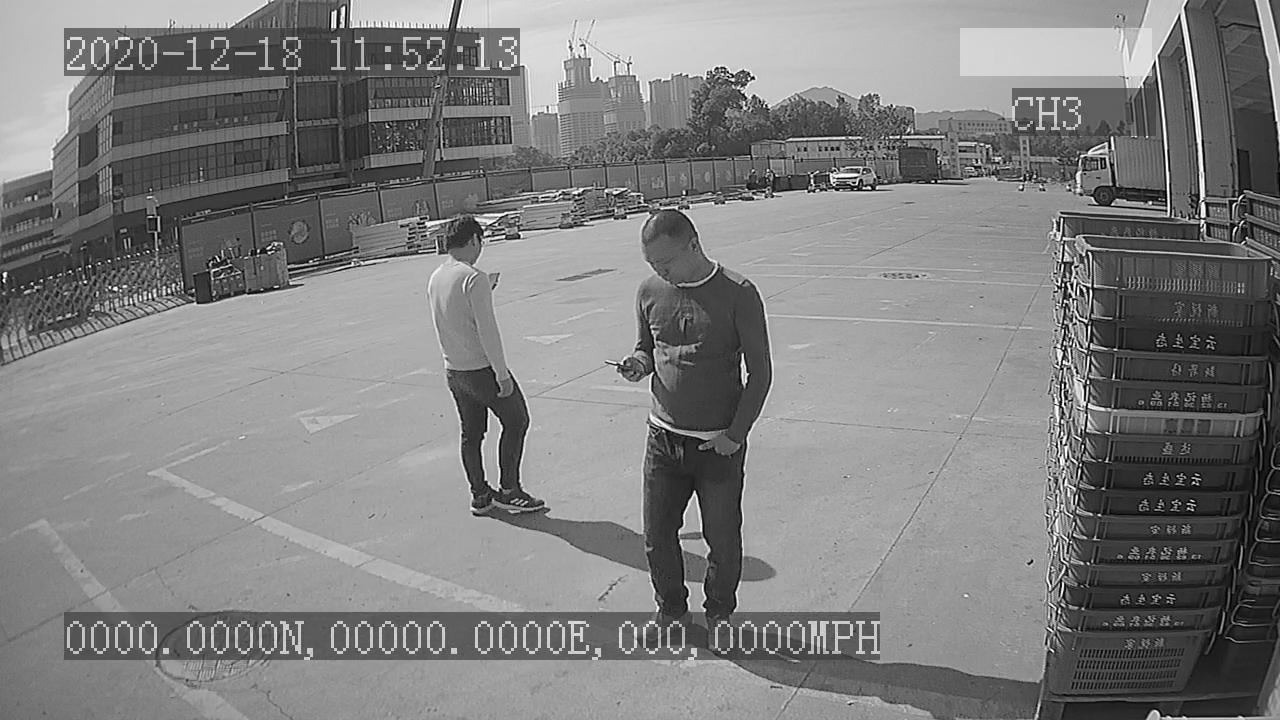person: (422, 210, 552, 520)
